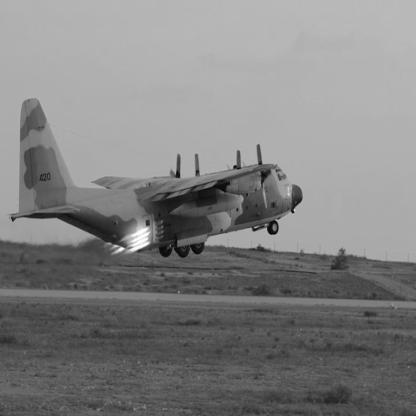C130: (7, 98, 304, 258)
